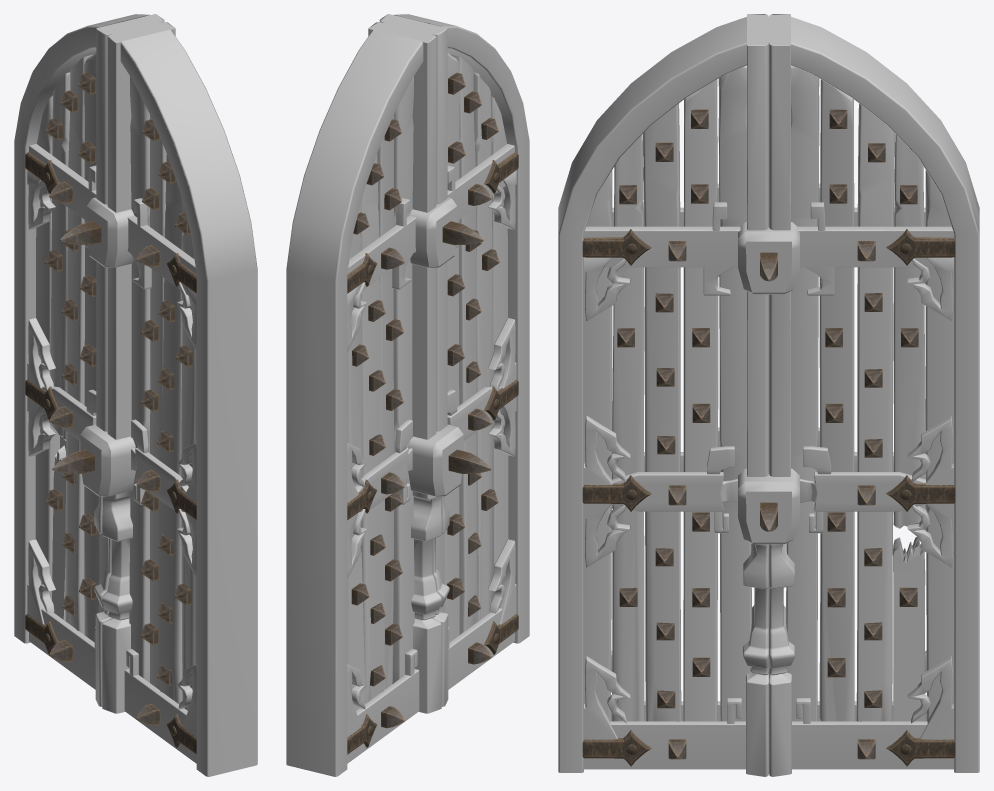
3 renders of one model, left to right at view 1: azimuth 30°, elevation 25°; view 2: azimuth 150°, elevation 25°; view 3: azimuth 270°, elevation 25°, orthographic. The views are drawn at different scales.
Parts seen in each view (by area): view 1: SM_DR_Gateway_Doors_01_LOD0; view 2: SM_DR_Gateway_Doors_01_LOD0; view 3: SM_DR_Gateway_Doors_01_LOD0.
Boxes of the visible parts, <box> form: SM_DR_Gateway_Doors_01_LOD0: <box>14,14,257,776</box>; SM_DR_Gateway_Doors_01_LOD0: <box>286,14,529,776</box>; SM_DR_Gateway_Doors_01_LOD0: <box>558,14,979,776</box>.
Bounding box in the file's own units: 1.33 × 5.16 × 2.7.
